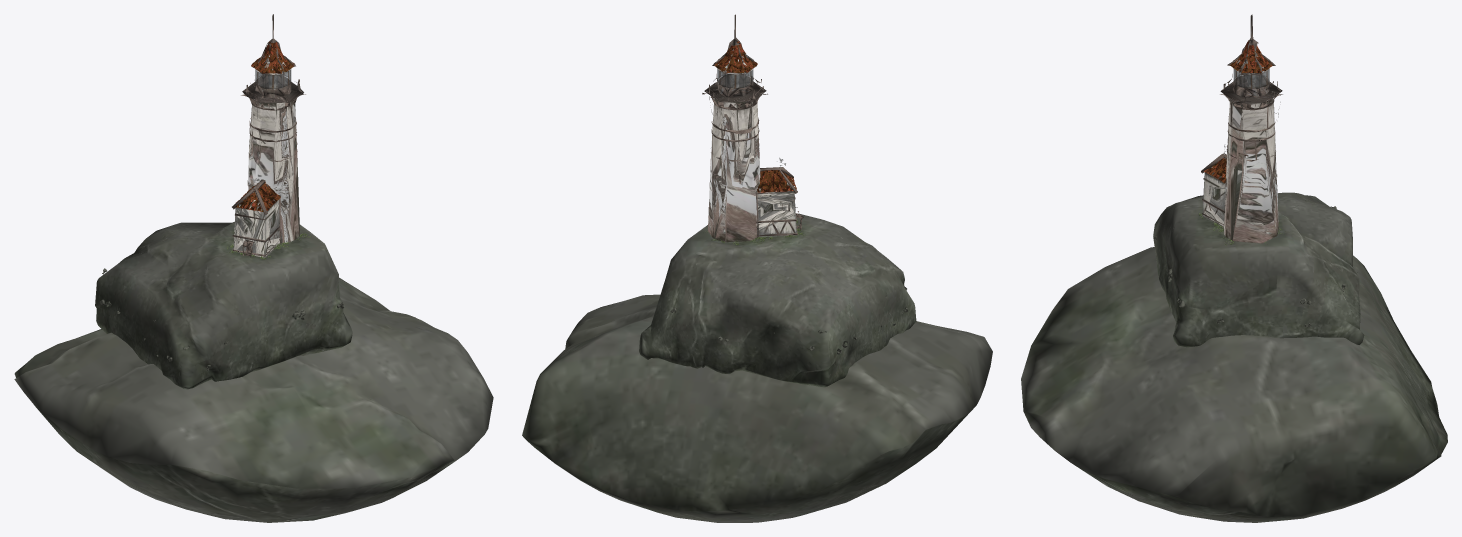
Rendered from lighthouse_c.glb.
3 renders of one model, left to right at view 1: azimuth 30°, elevation 25°; view 2: azimuth 150°, elevation 25°; view 3: azimuth 270°, elevation 25°, orthographic.
Bounding box in the file's own units: 1314 × 1484 × 1194.
Materials: 13 (11 with a texture image).
